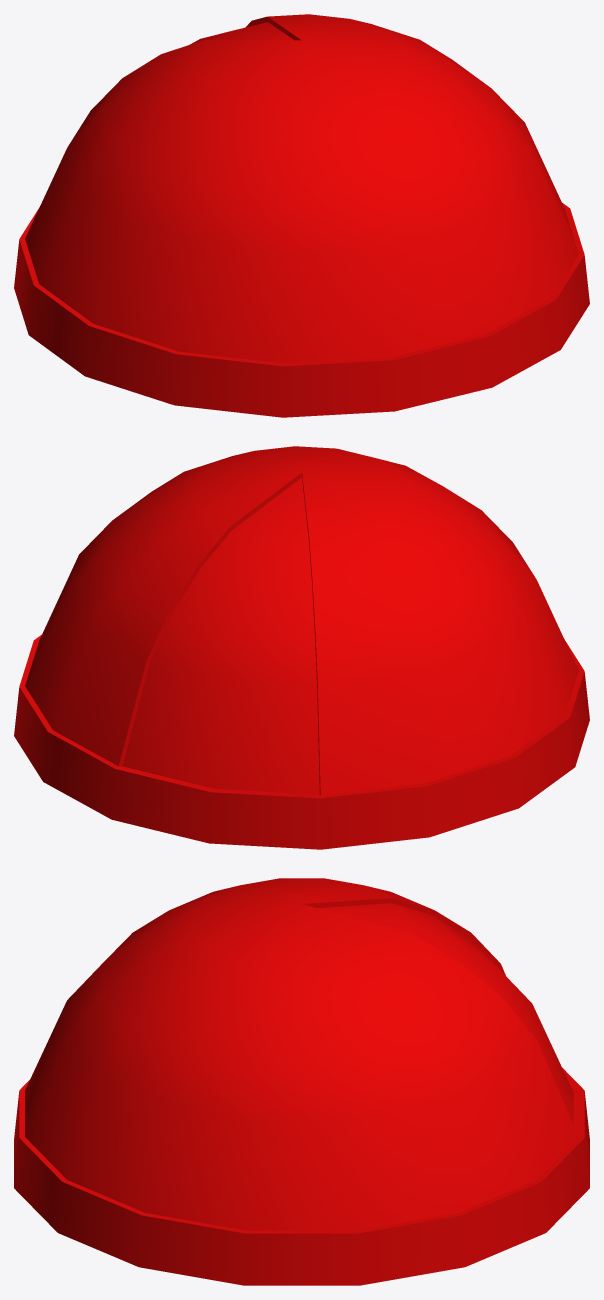
File: u2_alarm lamp.fbx
3 views of the same model, one above another, from view 1: azimuth 30°, elevation 25°; view 2: azimuth 150°, elevation 25°; view 3: azimuth 270°, elevation 25° (orthographic).
Parts seen in each view (by area): view 1: lamp rotator_low.001, lamp corpus_low.001; view 2: lamp rotator_low.001, lamp corpus_low.001; view 3: lamp rotator_low.001, lamp corpus_low.001.
Boxes of the visible parts, x1,y1,x2,y2 form: lamp rotator_low.001: (25,14,578,363); lamp corpus_low.001: (14,22,589,417); lamp rotator_low.001: (25,446,578,795); lamp corpus_low.001: (14,477,589,849); lamp rotator_low.001: (25,878,578,1230); lamp corpus_low.001: (14,903,589,1285).
Bounding box in the file's own units: 10.2 × 5.1 × 10.2.
